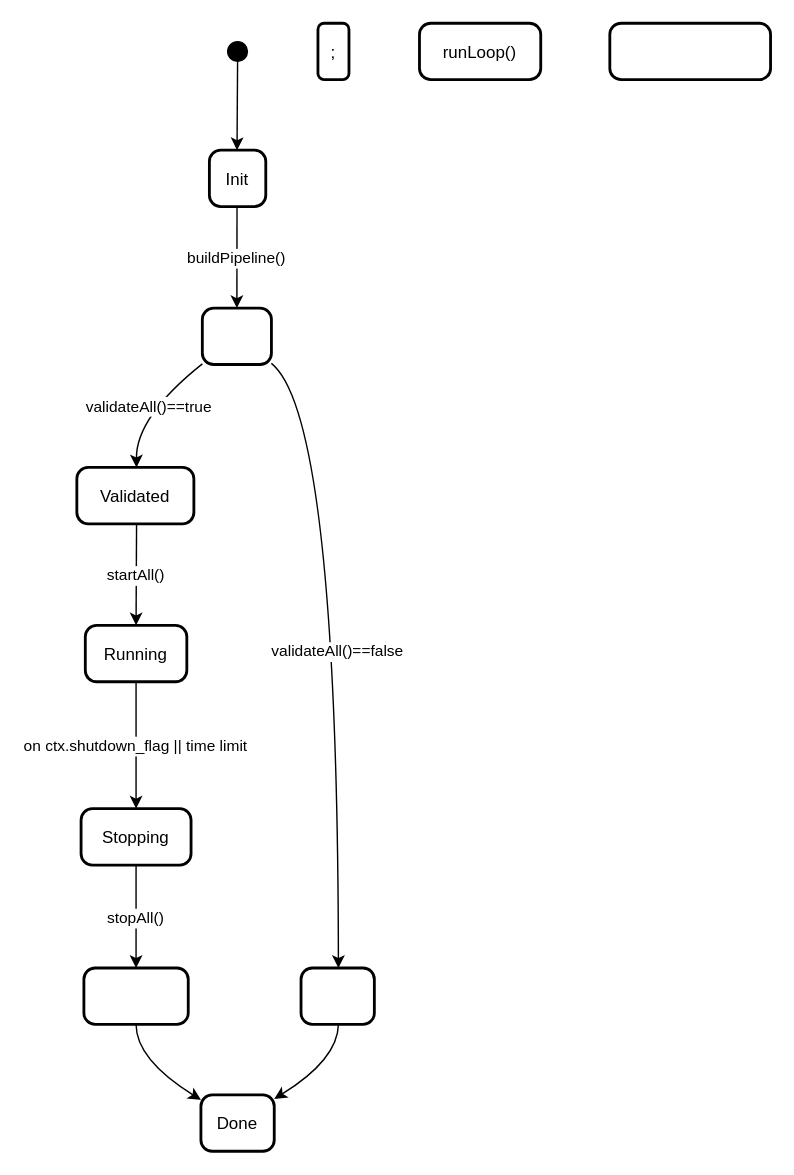
Some shapes in this 794 by 1175 pixel diagram are drawn without their labels. Each missing label, with the centre of its shape:
Built: point 236,335
Error: point 337,995
Flushing: point 135,995
flushMetrics(): point 689,50
